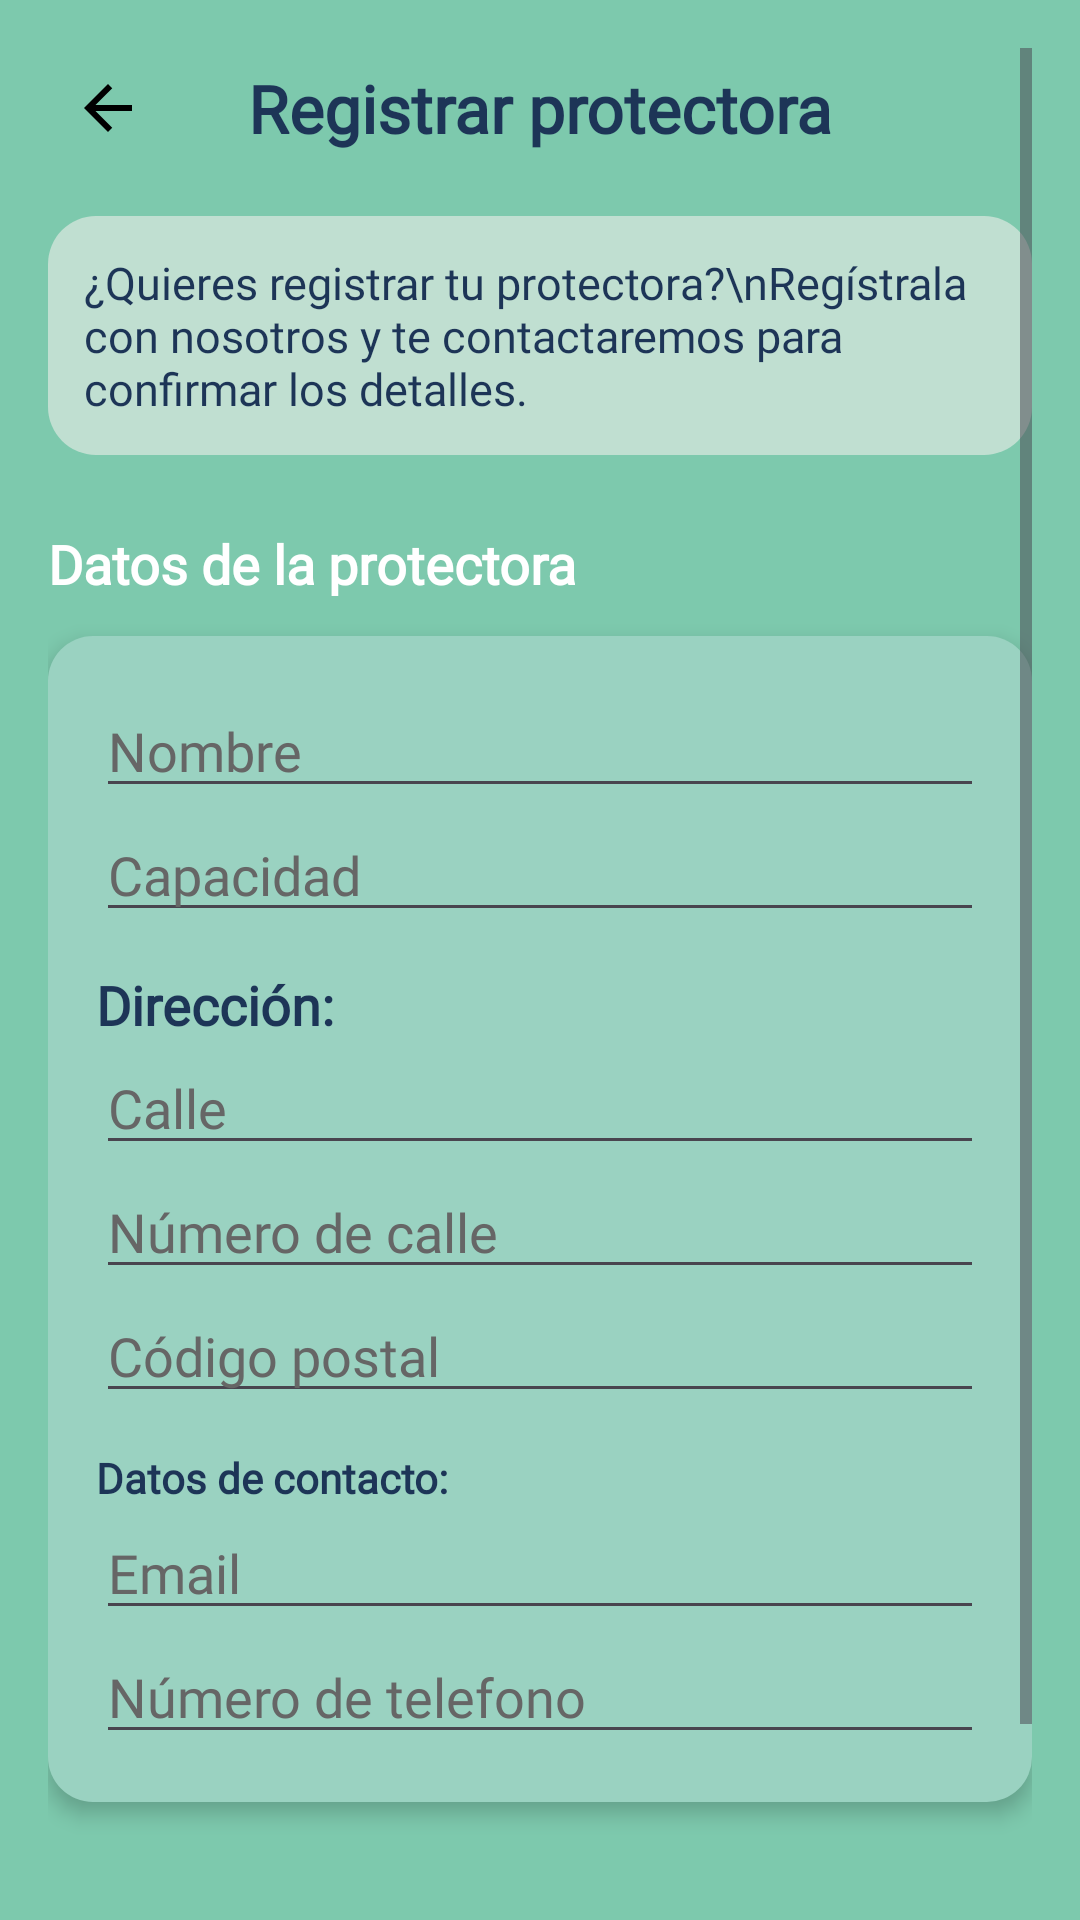

Where to tap for icons on this 1080x1920 app screen, as point (x, y):
Volver: point (108, 108)
